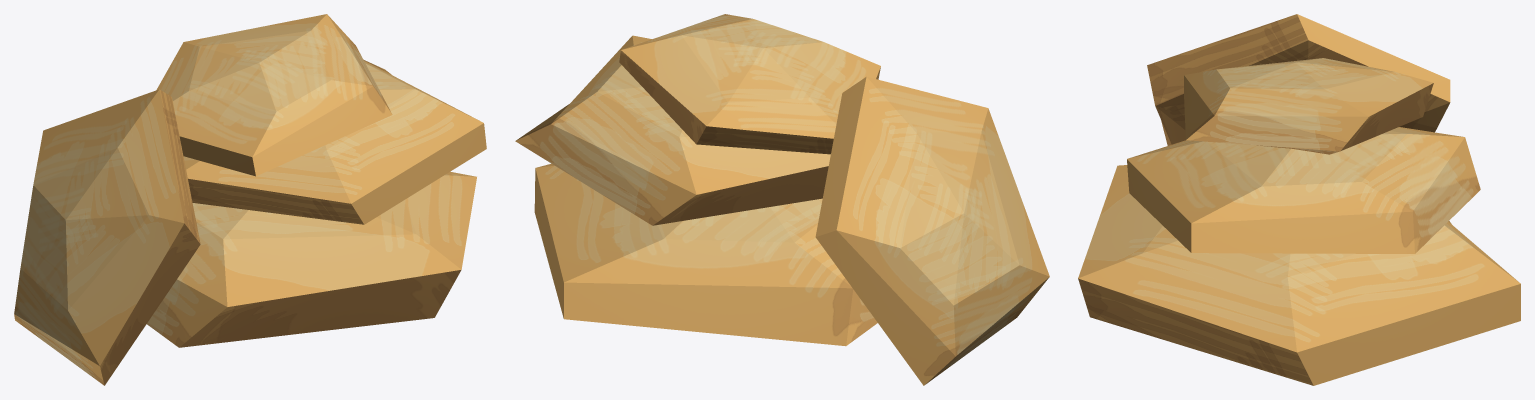
Rendered from RockPile.fbx.
3 views of the same model, side by side, from view 1: azimuth 30°, elevation 25°; view 2: azimuth 150°, elevation 25°; view 3: azimuth 270°, elevation 25° (orthographic). The views are drawn at different scales.
Visible parts, largest first — view 1: pSphere9; view 2: pSphere9; view 3: pSphere9.
Part boxes in pixels (<box>): pSphere9: <box>14,14,486,385</box>; pSphere9: <box>515,14,1049,385</box>; pSphere9: <box>1078,14,1520,385</box>.
Bounding box in the file's own units: 33.44 × 18.19 × 27.77.
